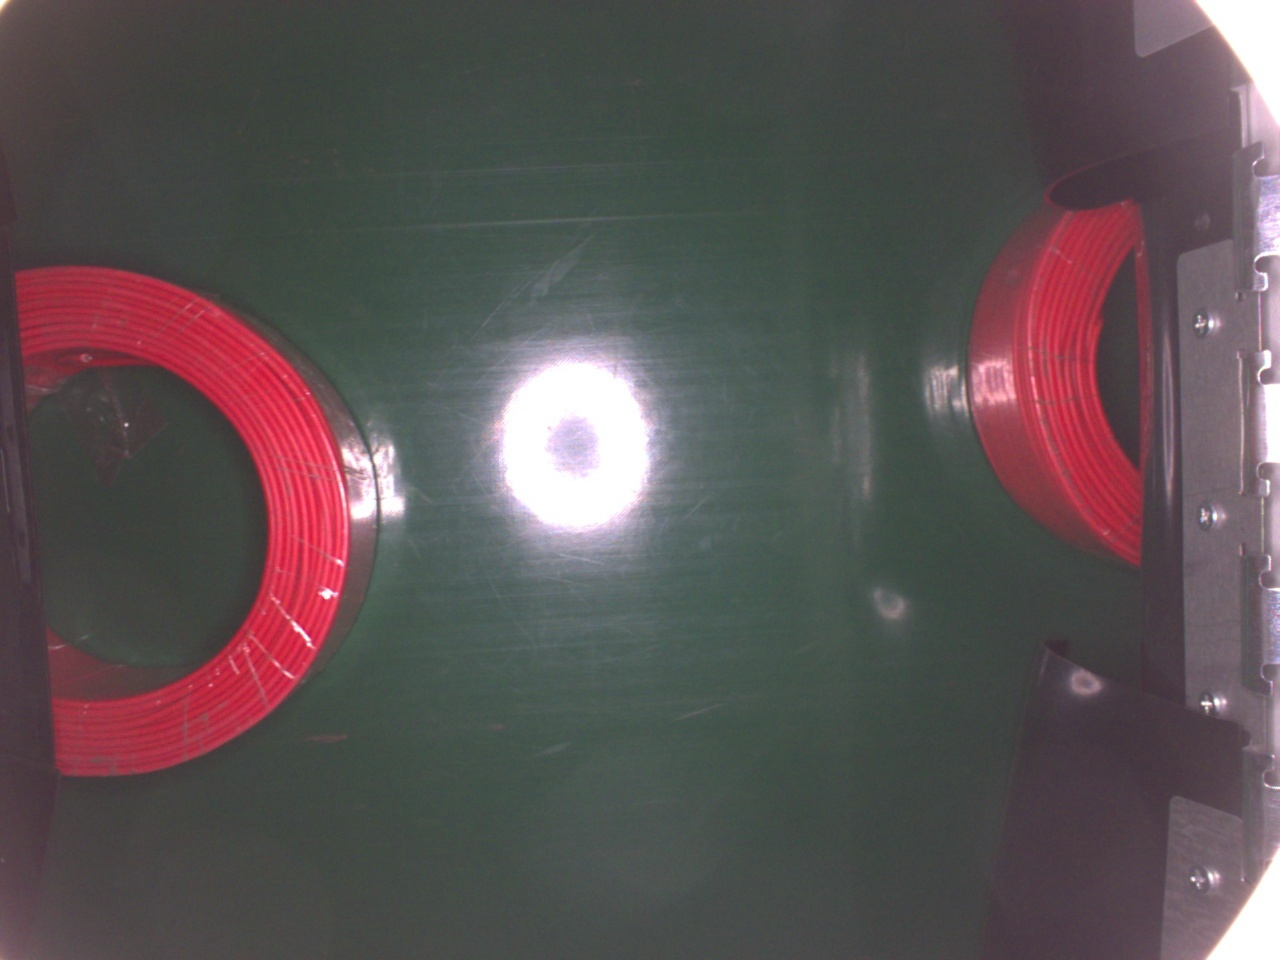red: (0, 262, 379, 779), (968, 203, 1144, 569)
